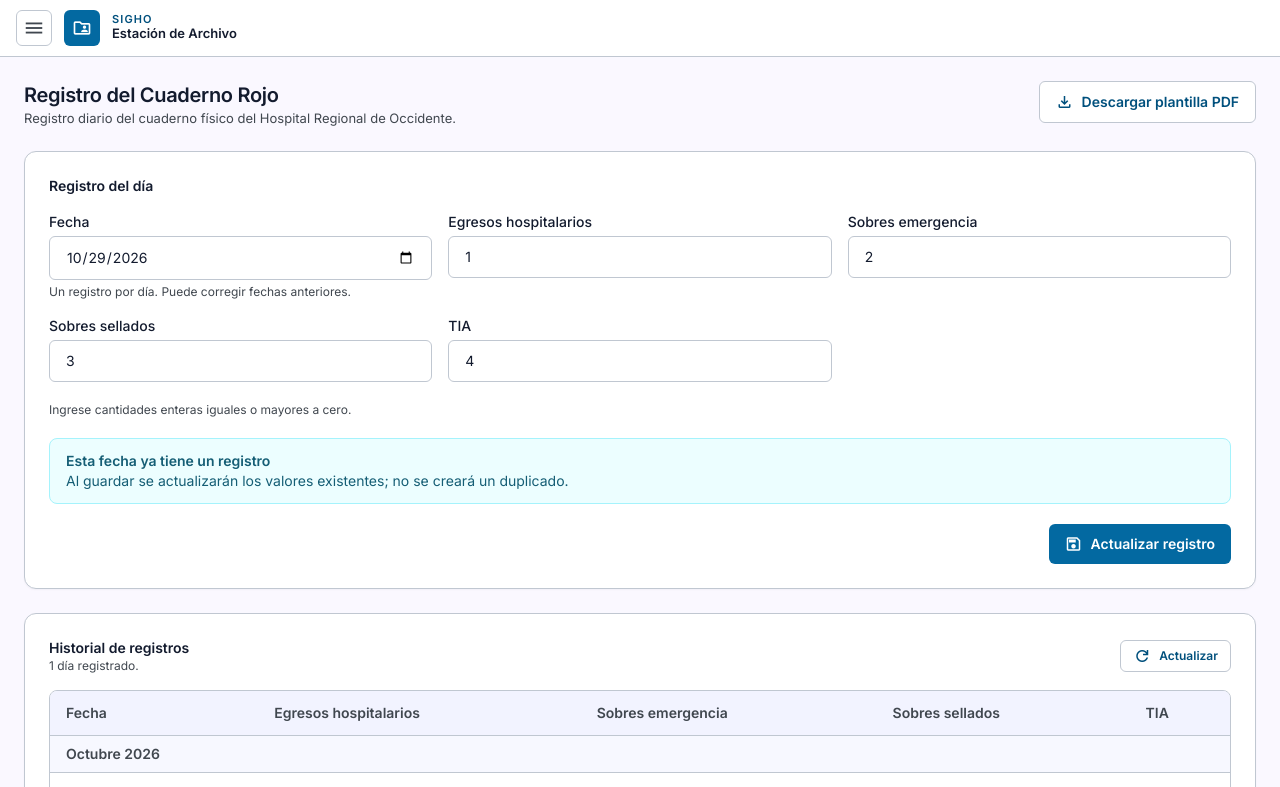
Test: CuadernoRojoPage › muestra el aviso de fecha existente y actualiza en lugar de duplicar
Check: the text "Esta fecha ya tiene un registro" is shown, box [66,452,270,469]
Check: the button "Actualizar registro" is enabled, box [1049,524,1231,564]
Replace the text in the field labelled "Egresos hospitalarios" with "10" at (640,257), box [448,236,832,278]
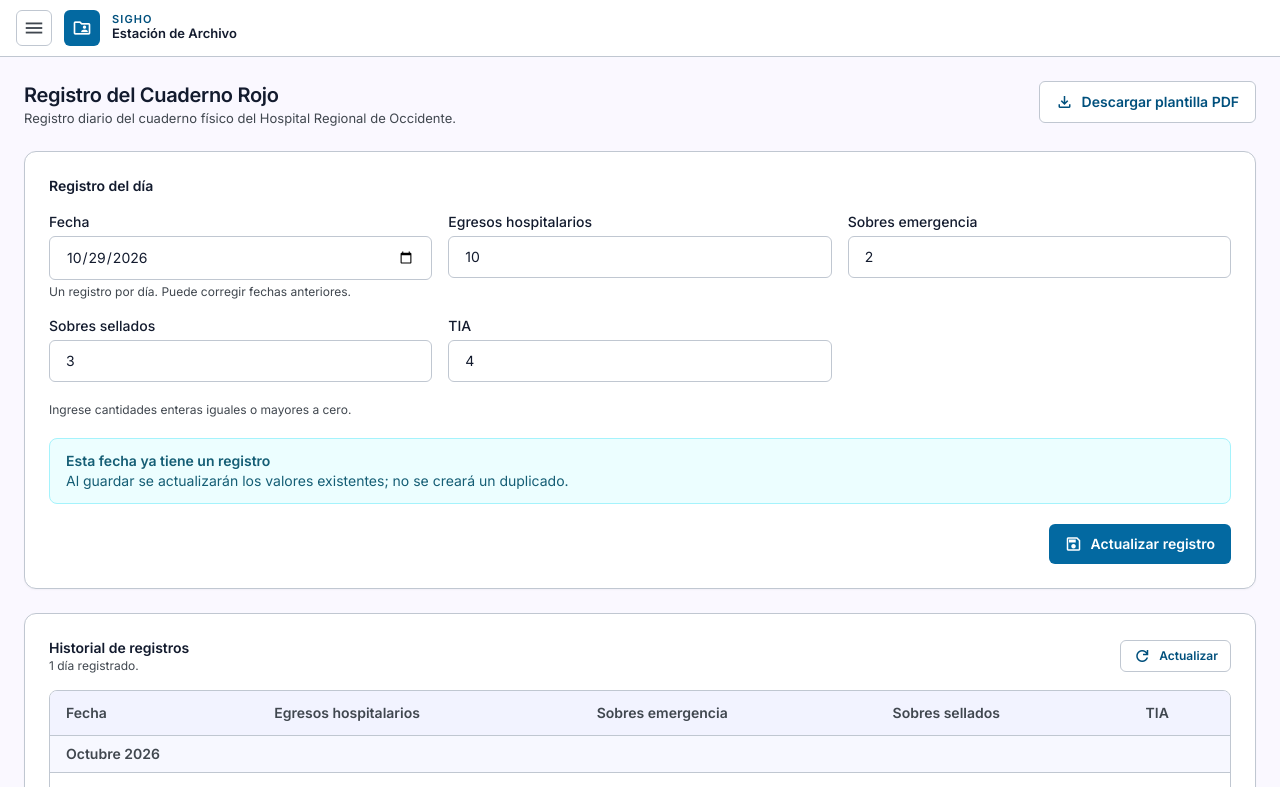
Replace the text in the field labelled "Sobres emergencia" with "20" at (1039,257), box [848,236,1231,278]
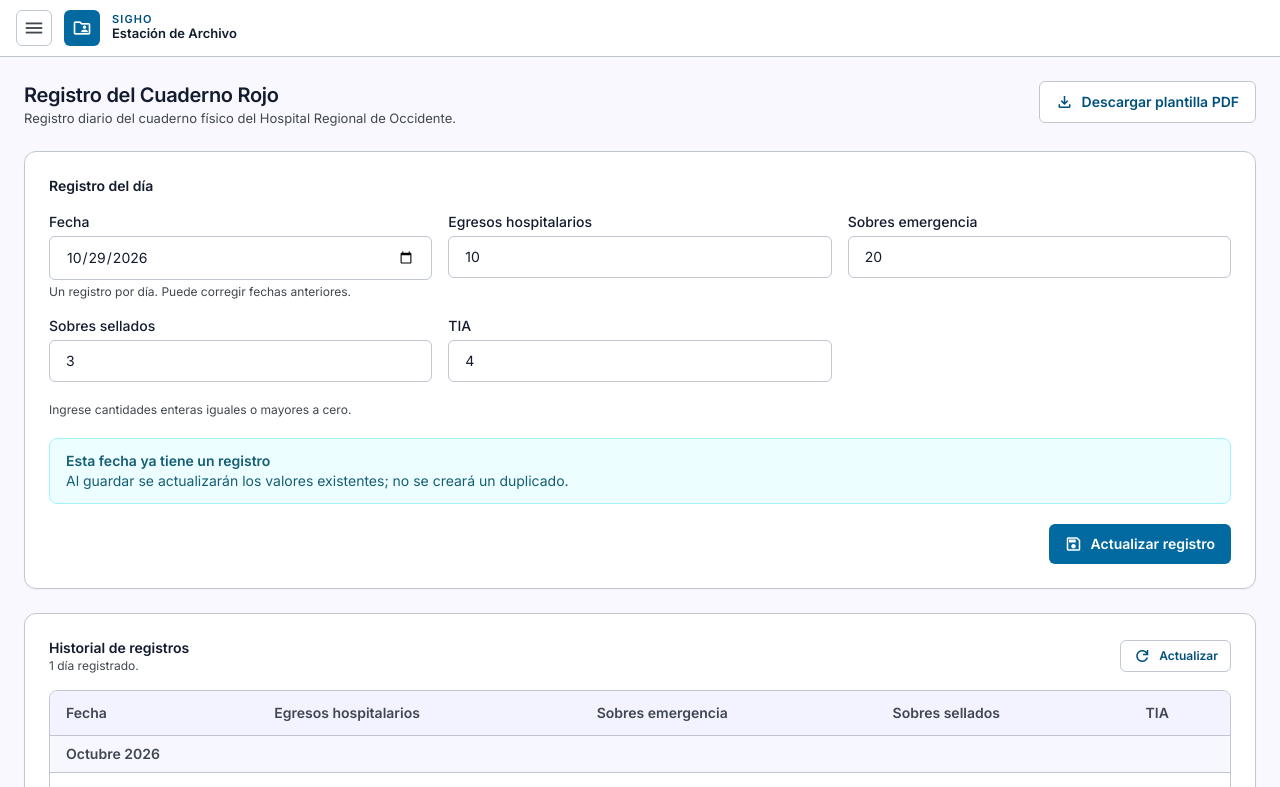
Replace the text in the field labelled "Sobres sellados" with "30" at (241,361), box [49,340,432,382]
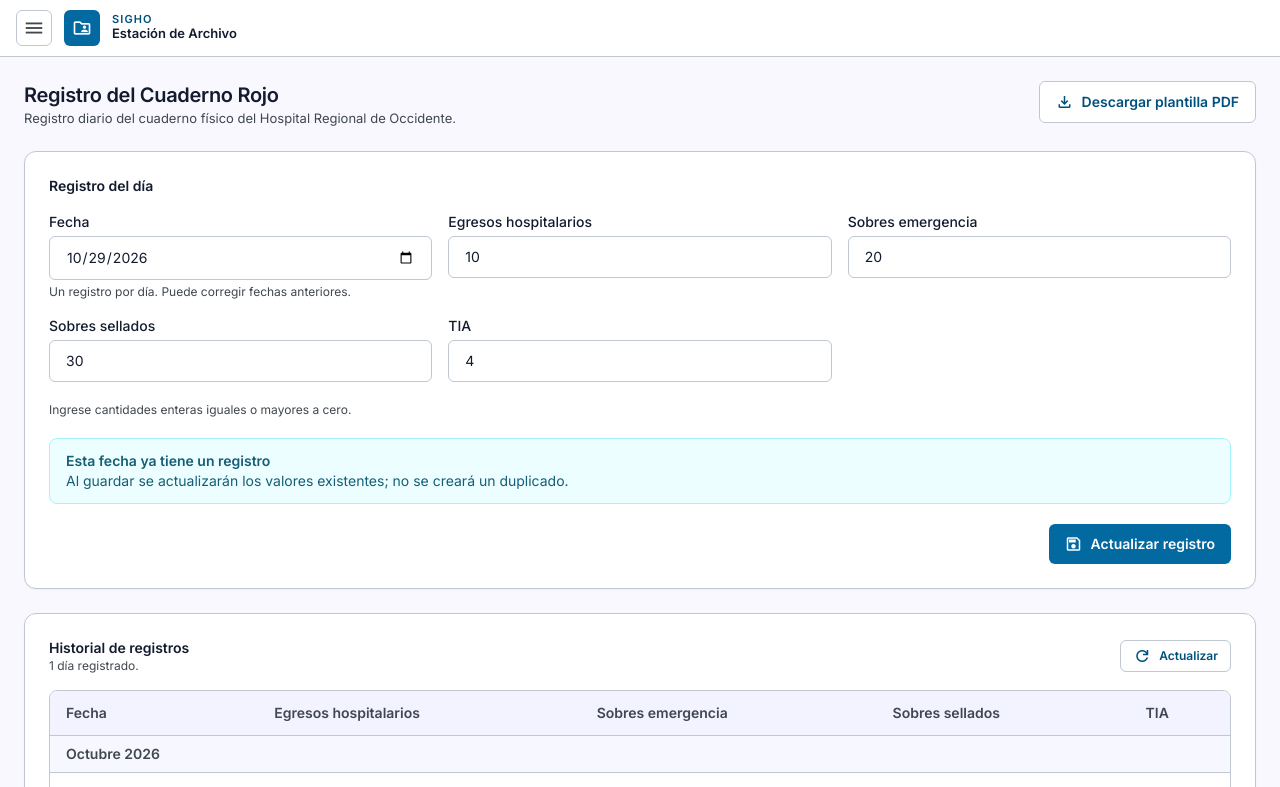
Replace the text in the field labelled "TIA" with "40" at (640,361), box [448,340,832,382]
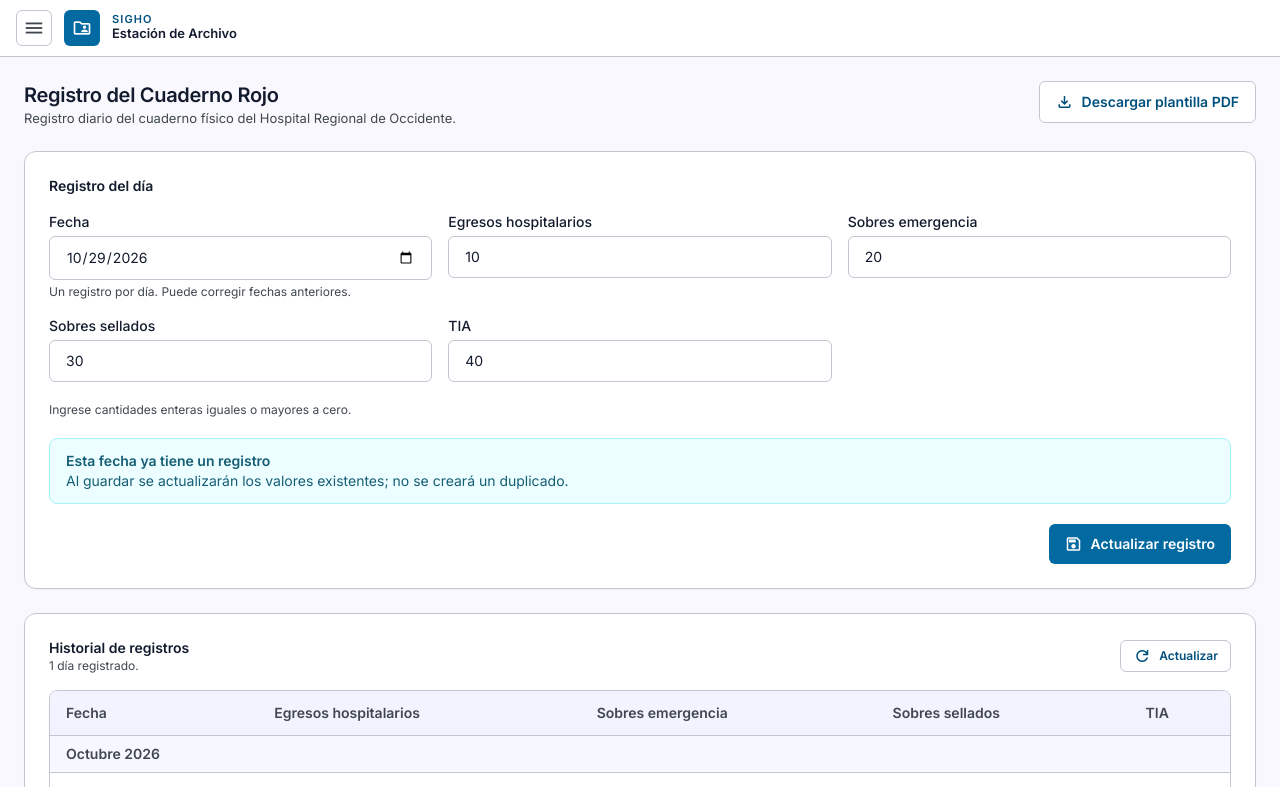
Click the button "Actualizar registro" at (1140,544), box [1049,524,1231,564]
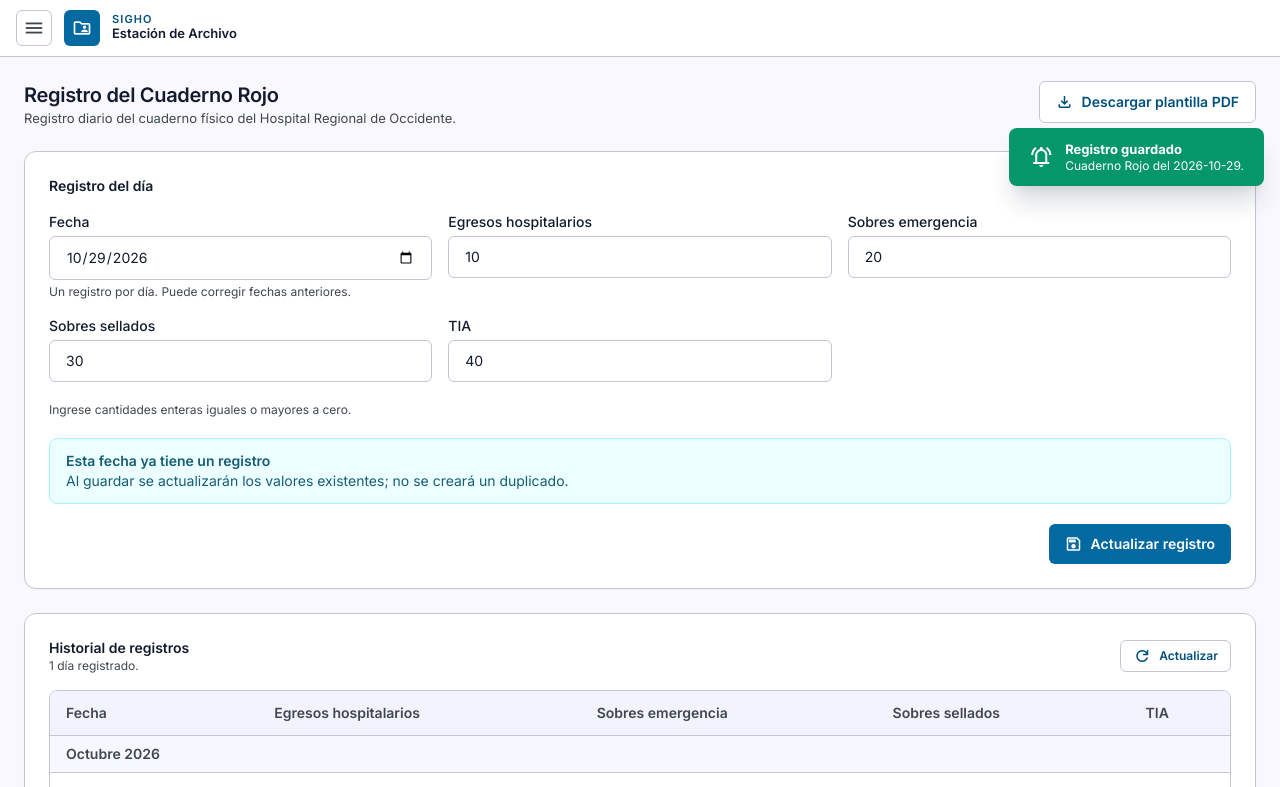
Check: the text "1 día registrado." is shown, box [49,658,139,673]
Check: the text "Registro guardado" is shown, box [1065,141,1182,157]
